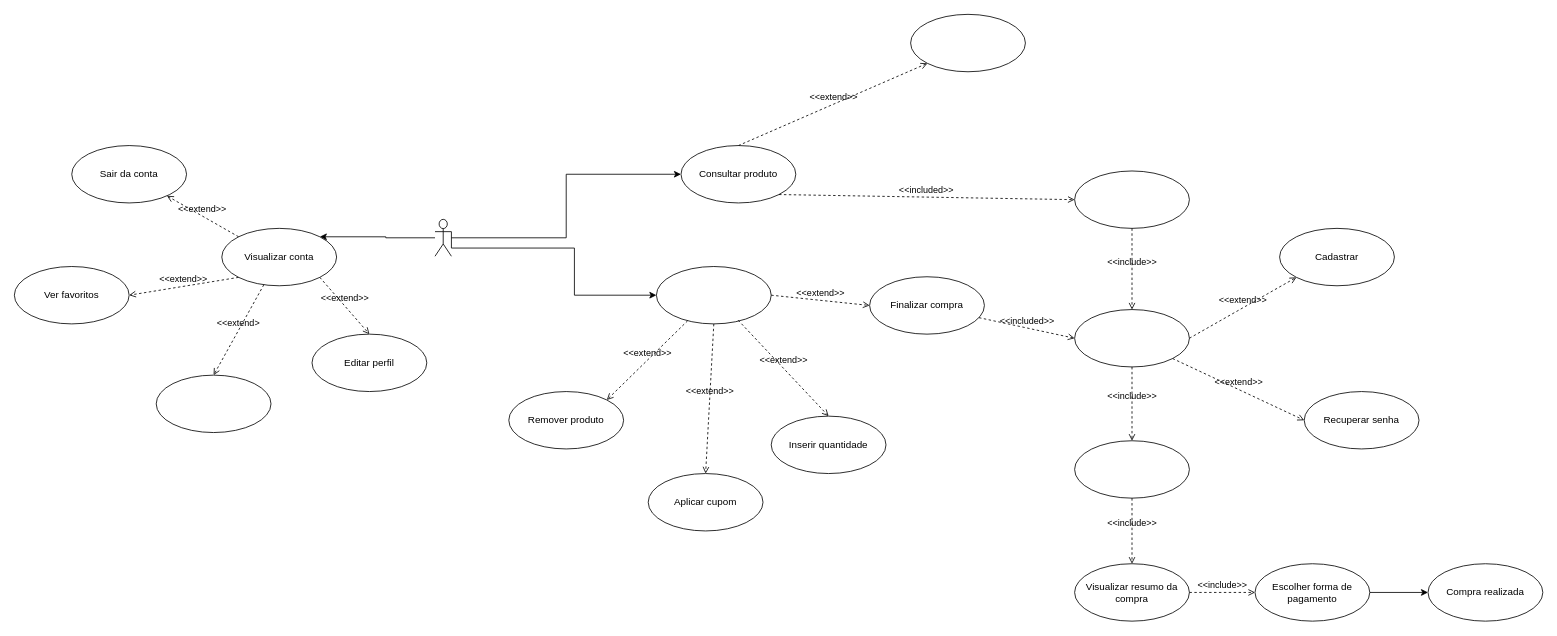
Image size: 1557x636. Some labels were removed from this diagram. The centre of each missing label's shape, as x and y in pixels:
Acompanhar pedido: point 213,403
Adicionar ao carrinho: point 1131,199
Cliente: point 442,237
Consultar carrinho: point 713,295
Inserir endereço: point 1131,469
Realizar login: point 1131,338
Ver mais detalhes: point 967,43
